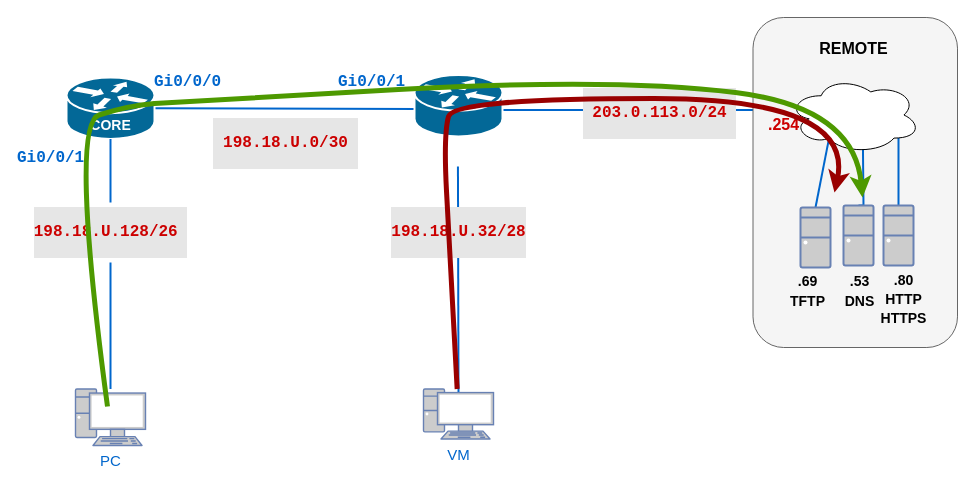
The diagram is 975 pixels wide and 488 high, and some of its shapes have lost their labels. Here are the shapes that lost their labels. From the top down, the centre of each, then its label:
At (x=547, y=82): "Gi0/0/0 .U".
At (x=458, y=105): "EDGE".
At (x=482, y=151): "Gi/0/2".
